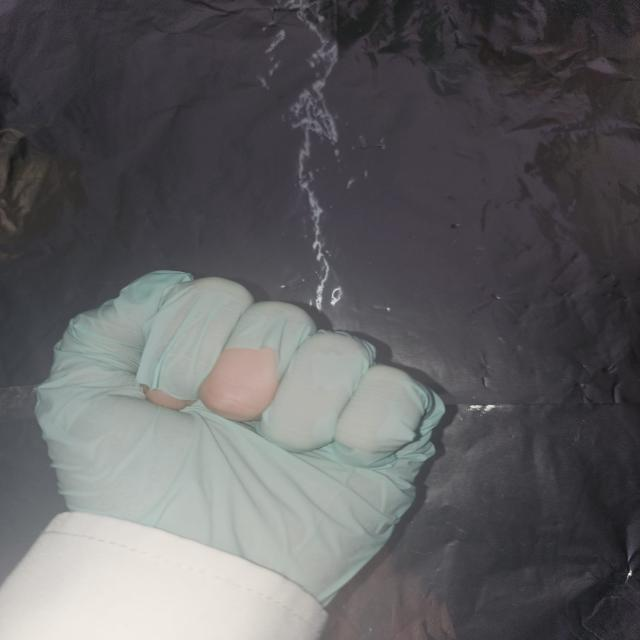gloves_damaged: (28, 265, 446, 611)
